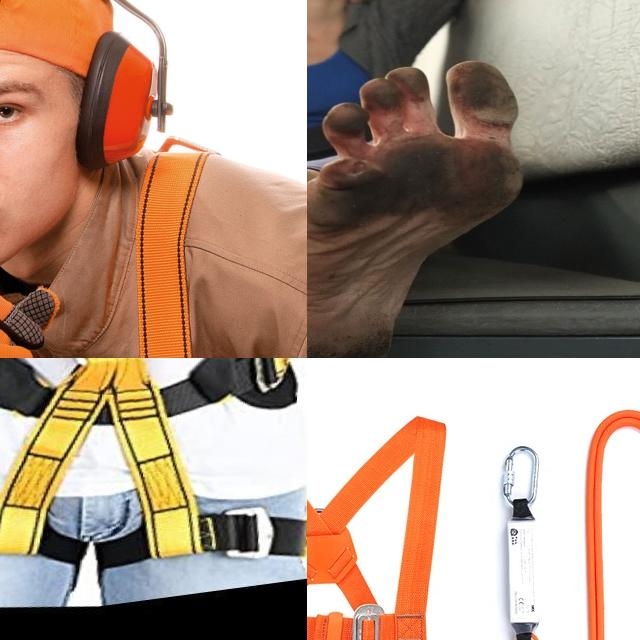Barefoots: (307, 60, 524, 358)
Ear-protection: (0, 0, 170, 259)
Harness: (0, 358, 298, 566), (307, 414, 467, 640)
No_Glasses: (0, 72, 56, 160)
person: (0, 0, 307, 358)
